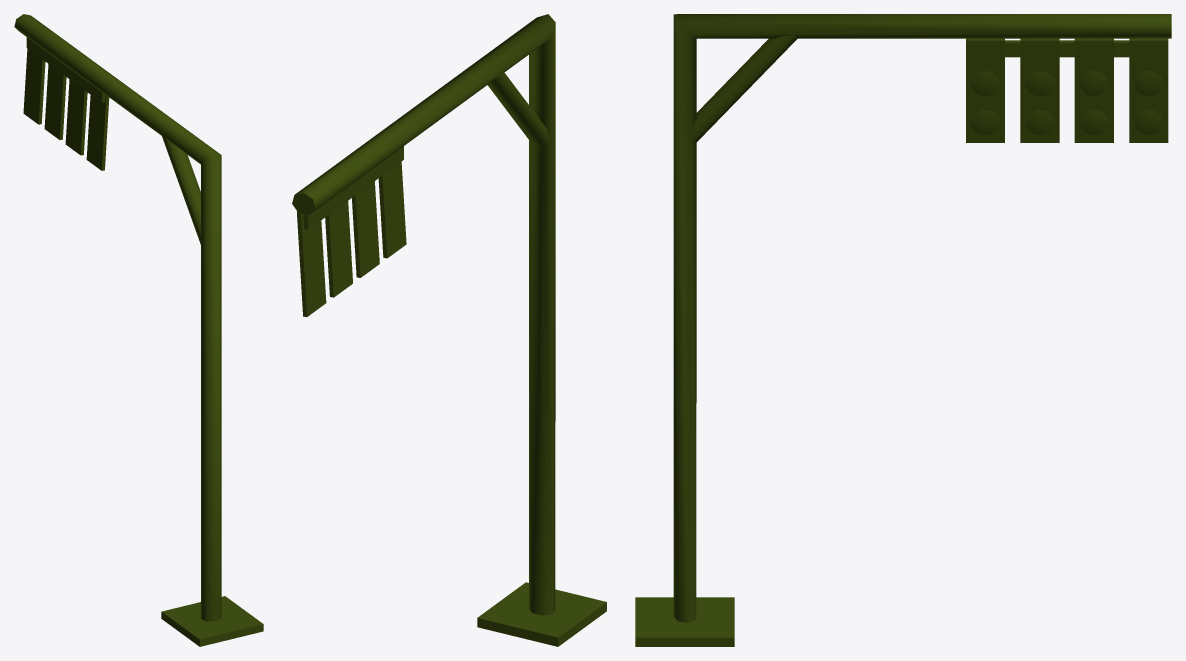
File: T2_Lights01_M.fbx
3 views of the same model, side by side, from view 1: azimuth 30°, elevation 25°; view 2: azimuth 150°, elevation 25°; view 3: azimuth 270°, elevation 25° (orthographic). The views are drawn at different scales.
Parts seen in each view (by area): view 1: T2_Lights01; view 2: T2_Lights01; view 3: T2_Lights01, T2_Lights01_L1.
Part boxes in pixels (bbox=[...]): T2_Lights01: bbox=[14, 14, 263, 646]; T2_Lights01: bbox=[292, 14, 606, 646]; T2_Lights01: bbox=[635, 14, 1171, 646]; T2_Lights01_L1: bbox=[971, 70, 1163, 135].
Bounding box in the file's own units: 0.2991 × 2.12 × 1.69.
